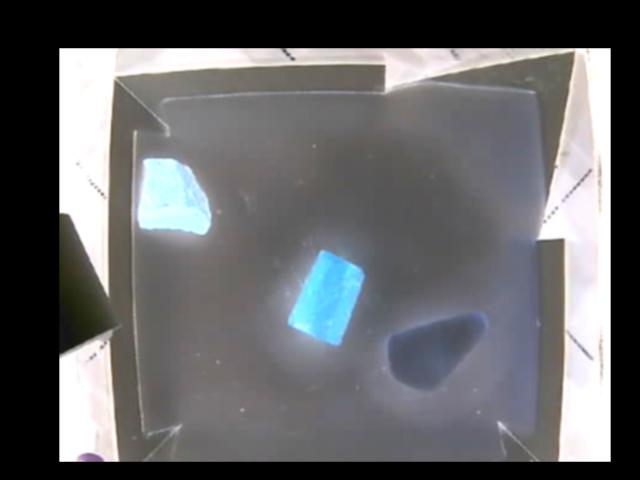Brisk: (140, 158, 213, 234)
Carrot: (291, 248, 363, 348)
Mooli: (383, 312, 490, 395)
